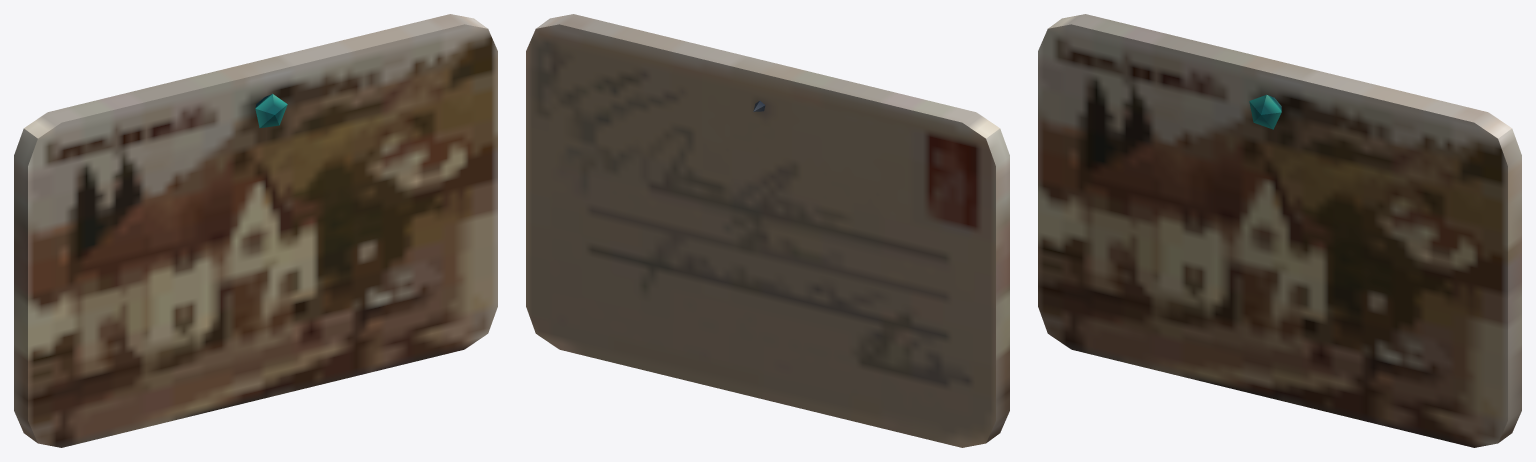
The model's file is postal2.3.fbx.
The picture shows the model from 3 angles, left to right: view 1: azimuth 30°, elevation 25°; view 2: azimuth 150°, elevation 25°; view 3: azimuth 330°, elevation 25°; orthographic projection.
Parts seen in each view (by area): view 1: s4studio_mesh_0; view 2: s4studio_mesh_0; view 3: s4studio_mesh_0.
Boxes of the visible parts, x1,y1,x2,y2 form: s4studio_mesh_0: (14,14,497,447); s4studio_mesh_0: (526,14,1009,447); s4studio_mesh_0: (1038,14,1521,447).
Size of the model in its own units: 24.03 by 15.9 by 2.99.
Materials: 1 (1 with a texture image).
